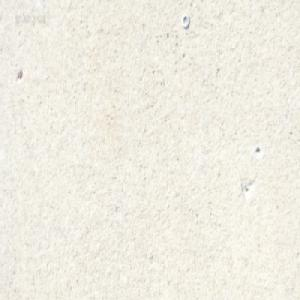Washer: (182, 13, 189, 28)
